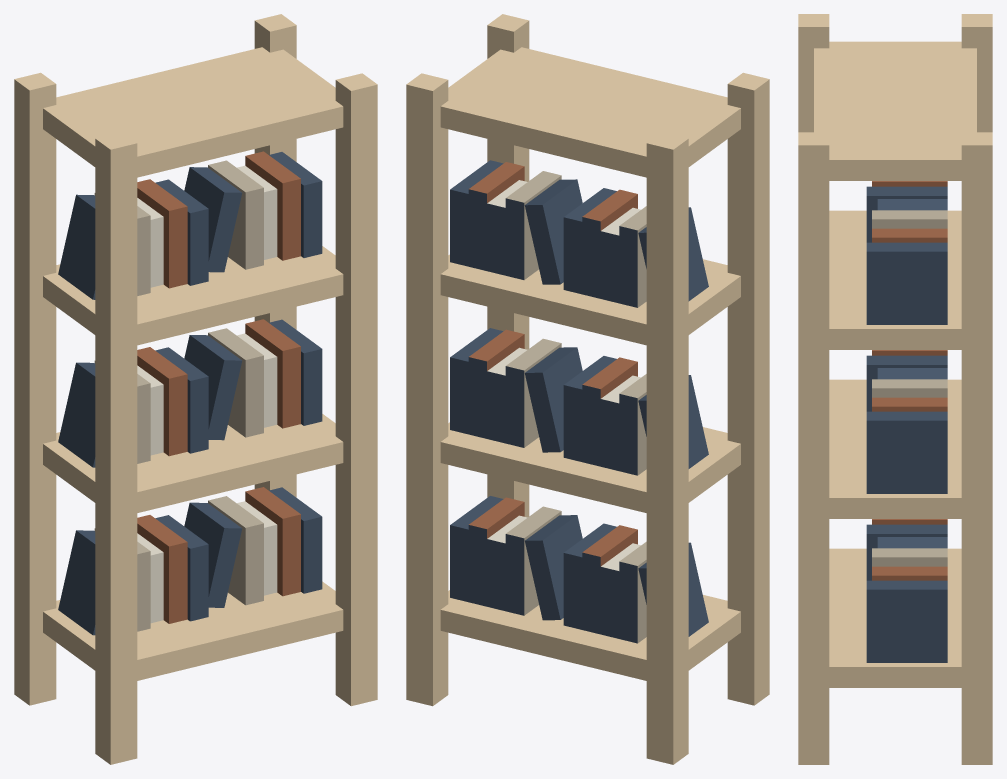
Rendered from furniture.shelf.filled_bookcase_01.glb.
The picture shows the model from 3 angles, left to right: view 1: azimuth 30°, elevation 25°; view 2: azimuth 150°, elevation 25°; view 3: azimuth 270°, elevation 25°; orthographic projection.
Parts seen in each view (by area): view 1: FinishedBookcase; view 2: FinishedBookcase; view 3: FinishedBookcase.
Part boxes in pixels (x1,y1,x2,y2): FinishedBookcase: (14,14,377,764); FinishedBookcase: (406,14,769,764); FinishedBookcase: (798,14,992,764).
Size of the model in its own units: 0.8 by 1.76 by 0.5.
